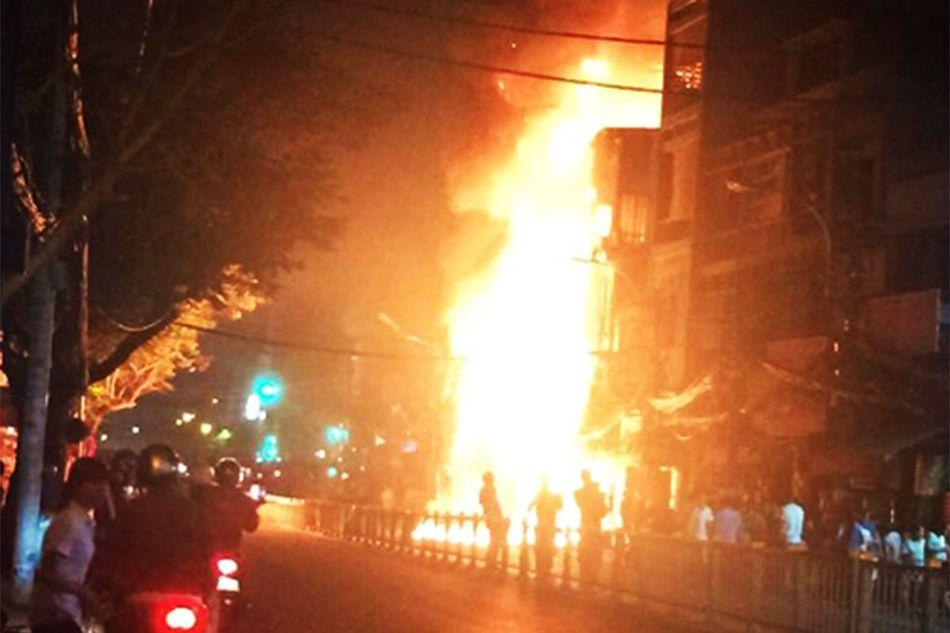fire: (482, 109, 608, 530), (563, 67, 656, 125)
